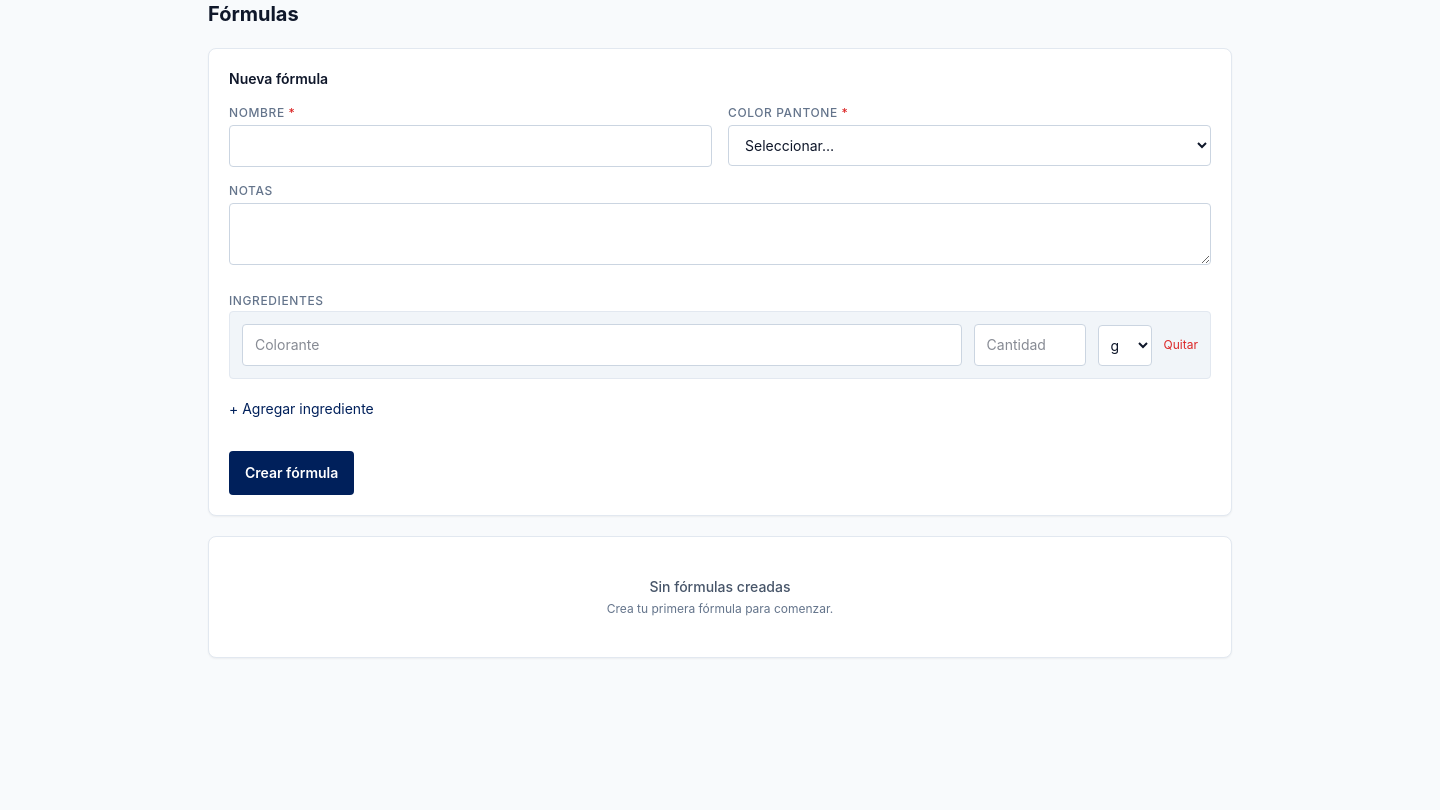
Test: FormulasPage › creates a new formula through the full flow
This screenshot has width=1440, height=810.
Type "Nueva Verde" into the field labelled "Nombre *" at {"x": 470, "y": 146}, box [229,125,712,167]
Select "221 —" in the dropdown labelled "Color Pantone *" at {"x": 970, "y": 146}, box [728,125,1211,166]
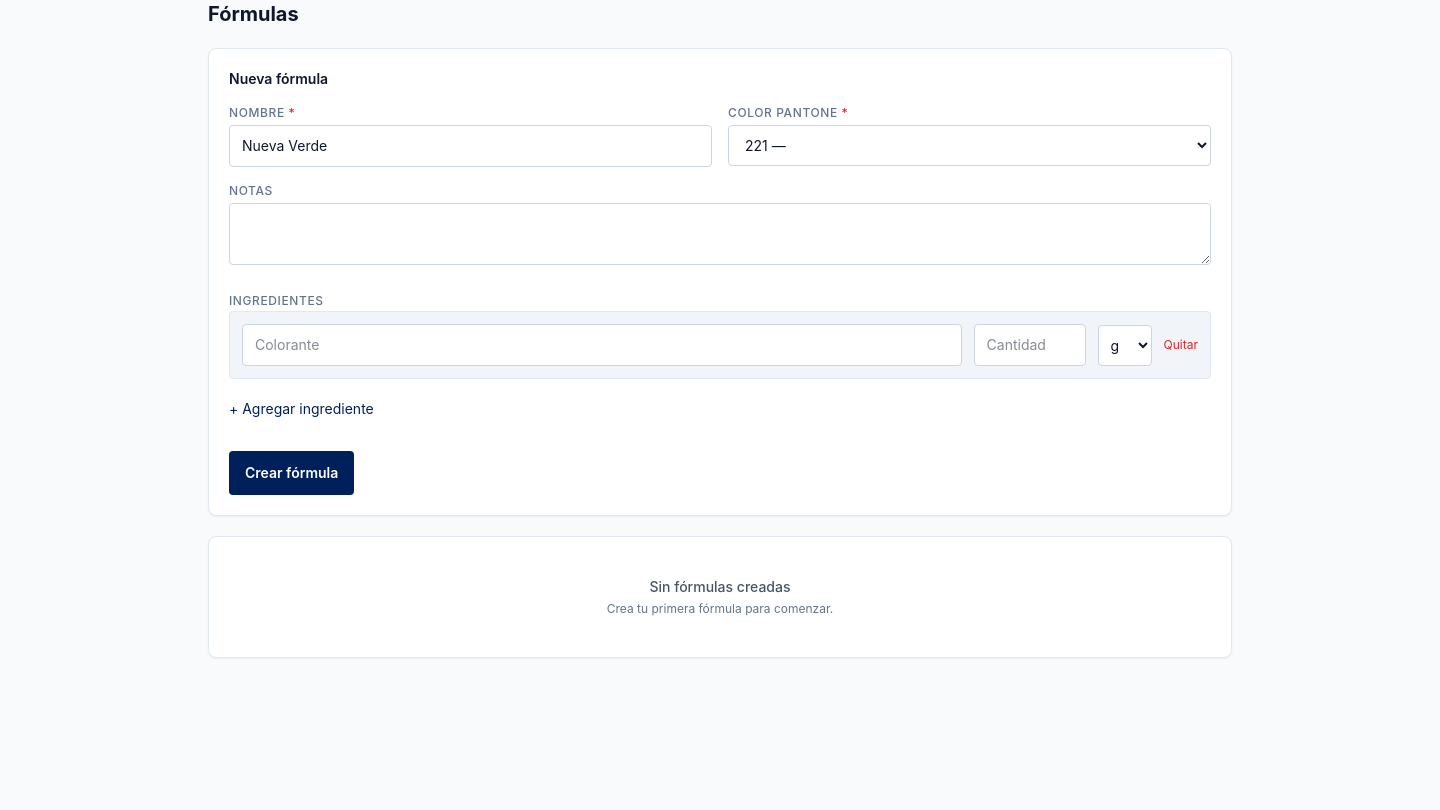
Type "Test notes" into the text box labelled "Notas" at {"x": 720, "y": 234}, box [229,203,1211,265]
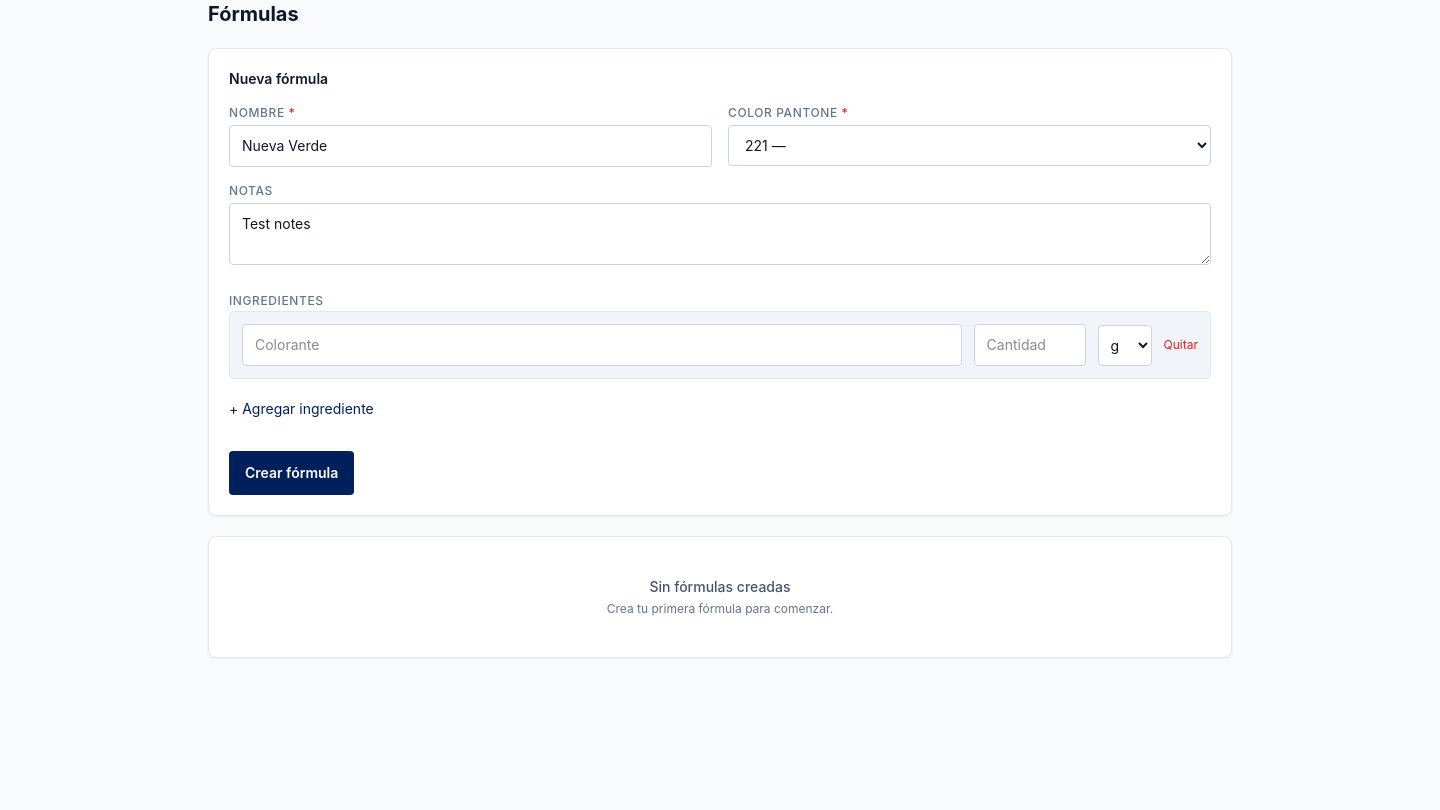
// Fill ingredient
Type "Verde palo" into the field with placeholder "Colorante" at {"x": 602, "y": 345}, box [242,324,962,366]
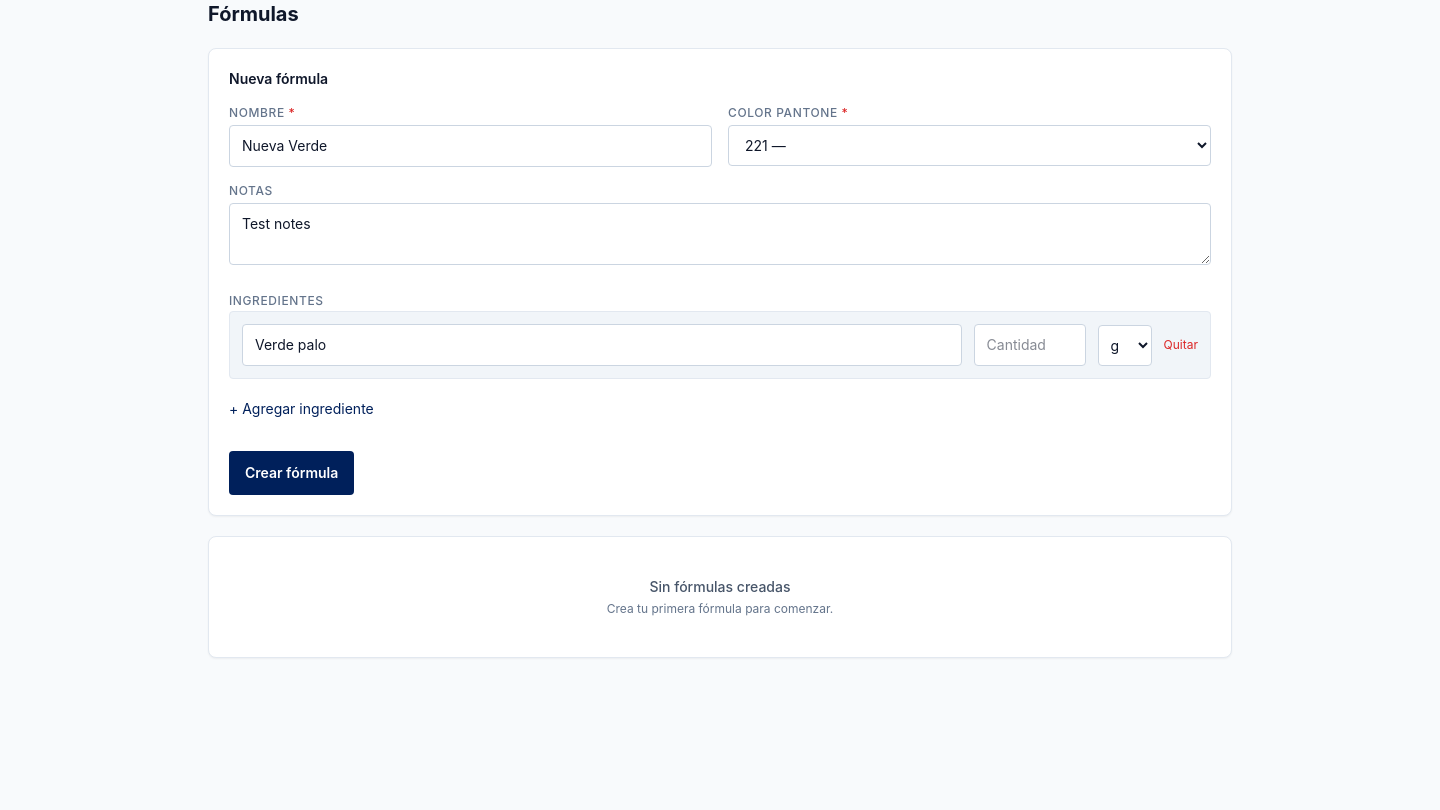
Type "200" into the number field with placeholder "Cantidad" at {"x": 1030, "y": 345}, box [974,324,1086,366]
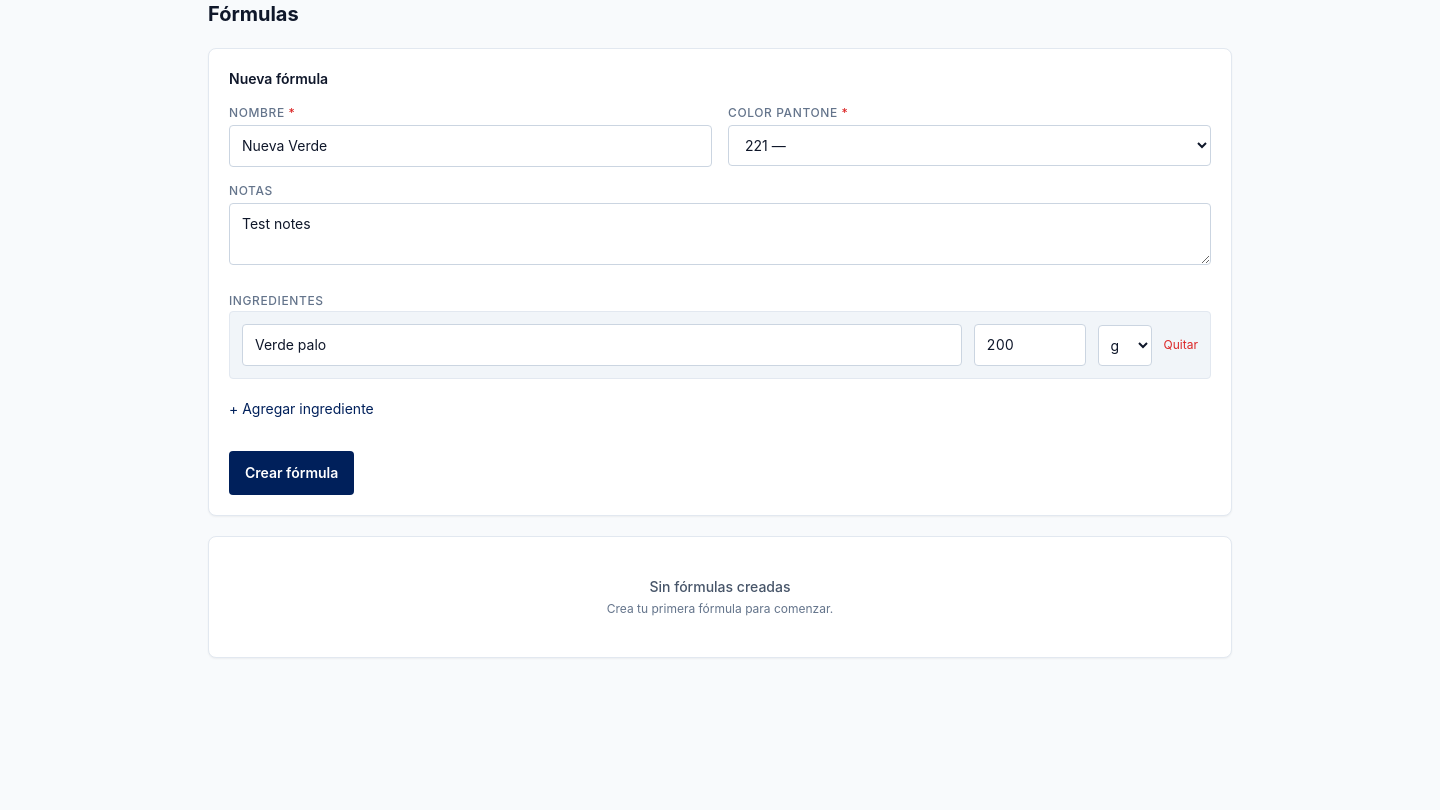
Submit the form named "Crear fórmula", box [208,48,1232,516]
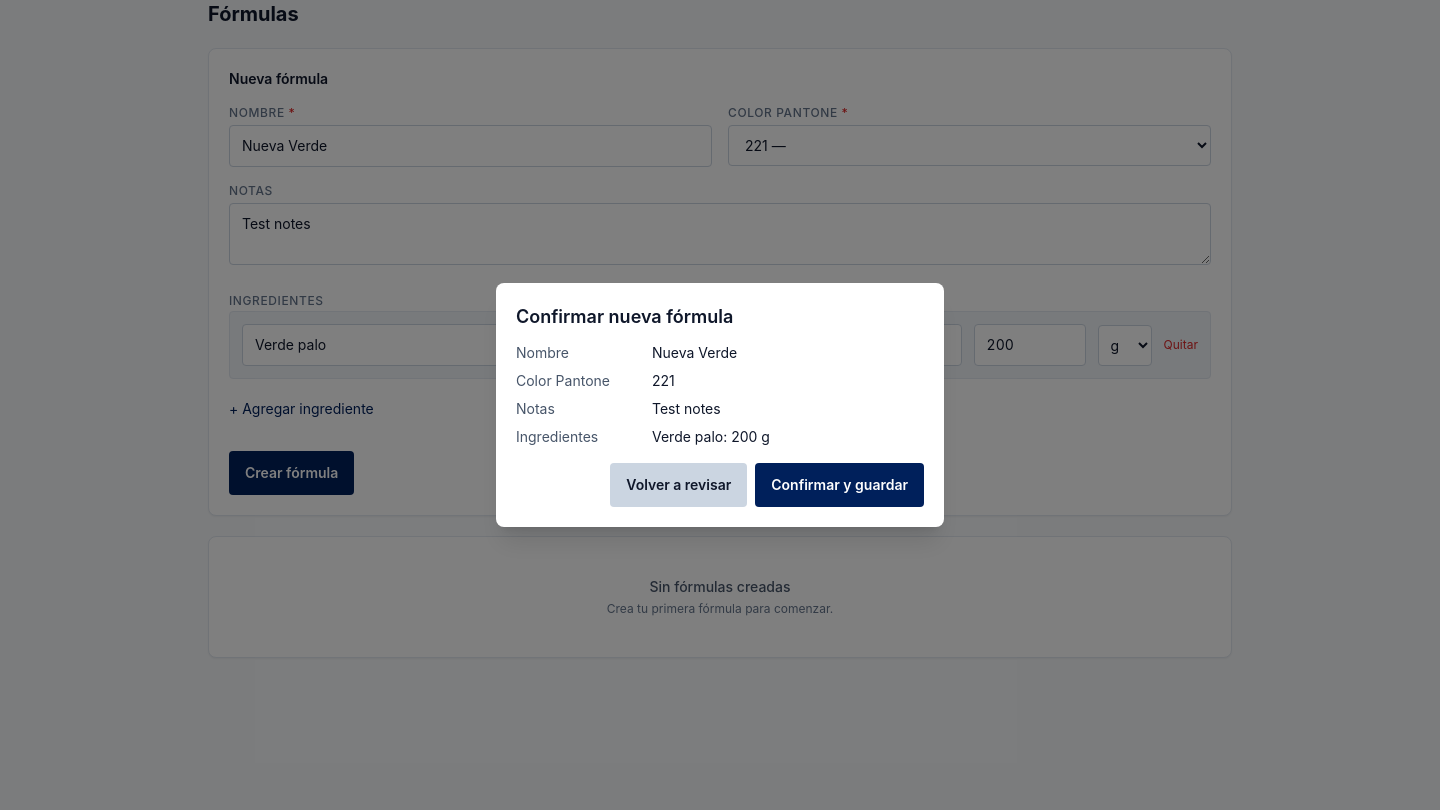
expect the heading "Confirmar nueva fórmula" is shown: met, box [516,306,733,327]
expect the text "Nueva Verde" is shown: met, box [652,343,737,363]
Click the button "Confirmar y guardar" at {"x": 840, "y": 485}, box [755,463,924,507]
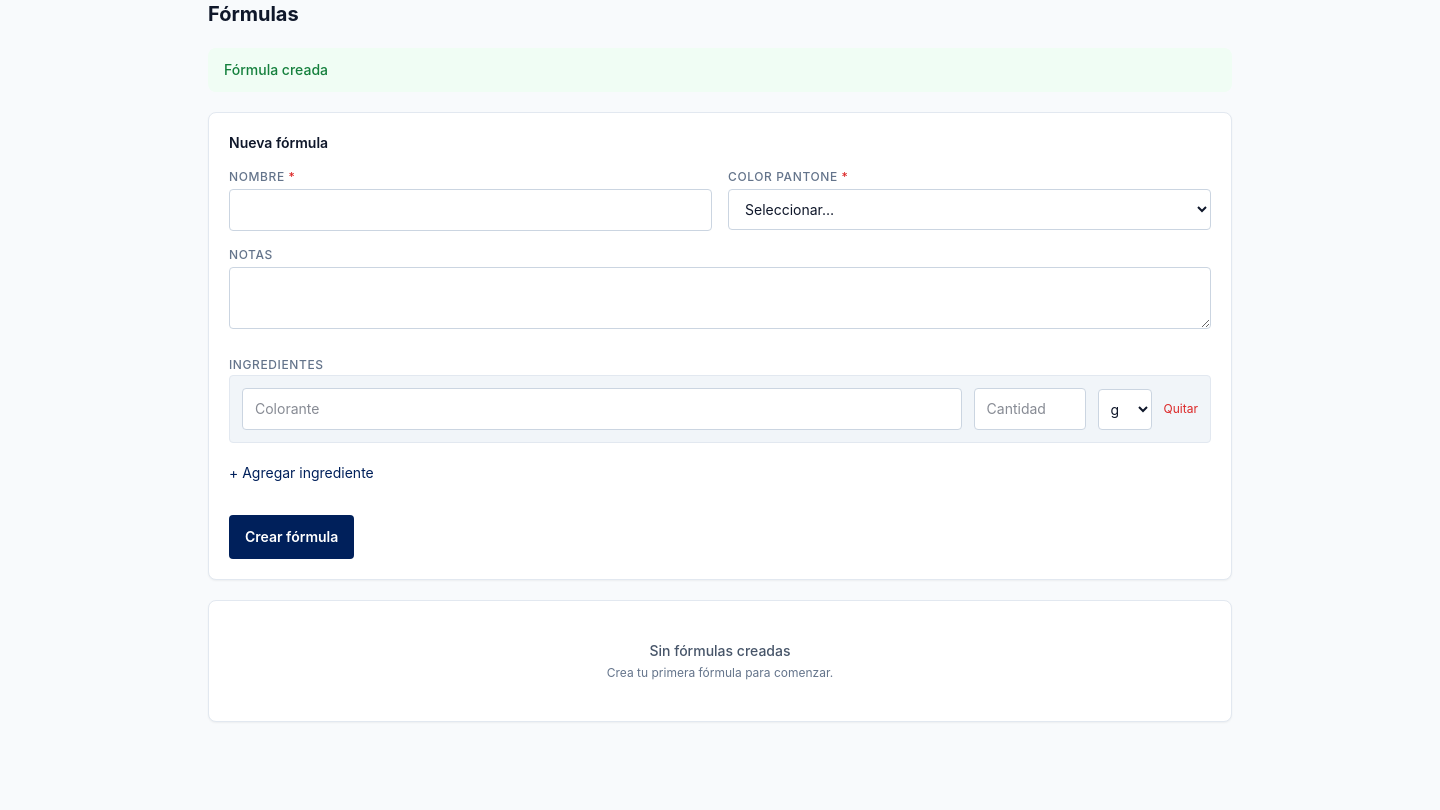
expect the text "Fórmula creada" is shown: met, box [208,48,1232,92]
